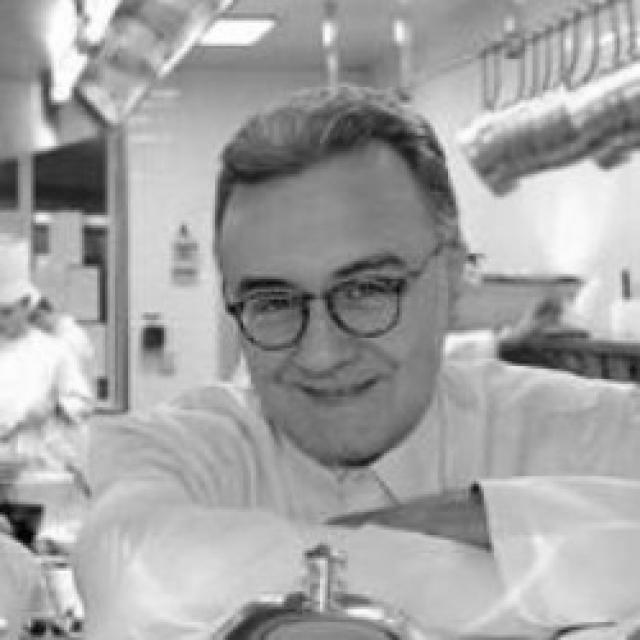real: (212, 102, 486, 464), (225, 271, 416, 334)
